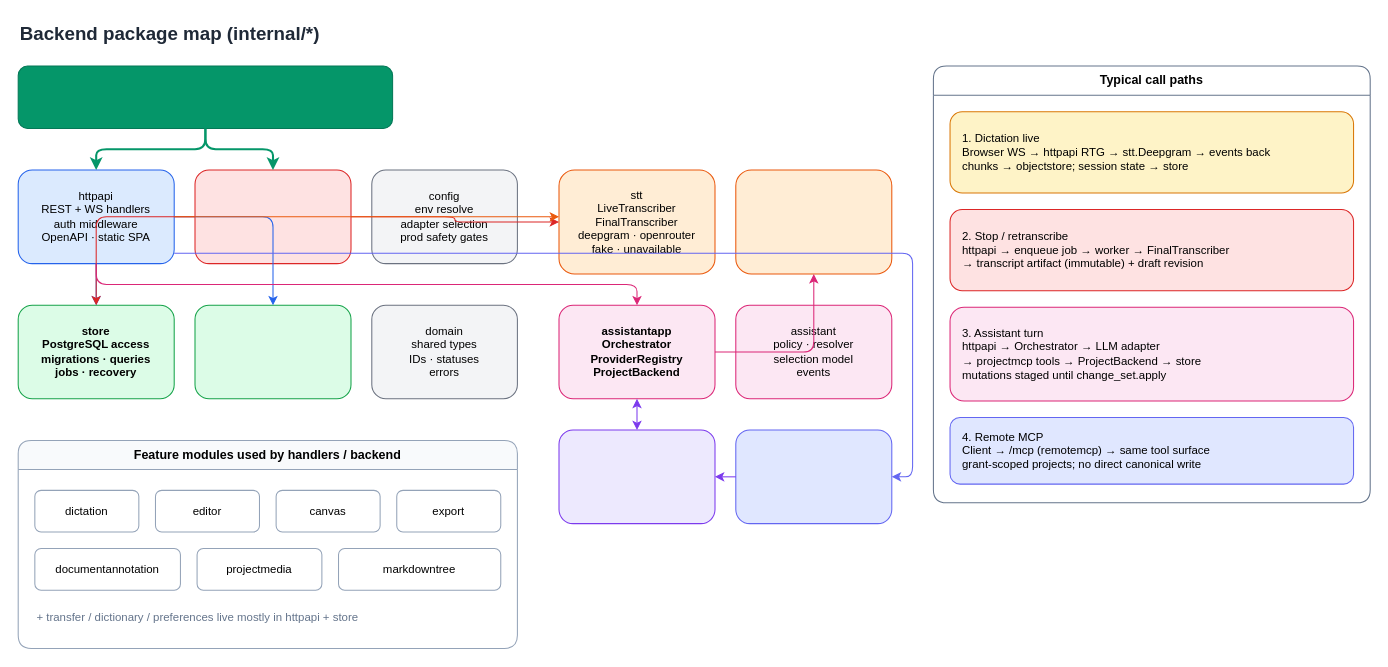
Image size: 1388x667. Some labels were removed from this diagram. Each missing label, with the centre of its shape:
cmd/server wire config · store · objectstore · STT · worker · httpapi: point (205, 96)
llm HTTP client credentials encrypt chat / responses endpoint policy: point (813, 221)
objectstore MinIO/S3 client chunks · media exports: point (272, 351)
projectmcp tool catalog in-process server staged mutations: point (636, 476)
remotemcp Streamable HTTP OAuth/bearer grants project allowlist: point (813, 476)
worker job poller assemble · STT export · purge: point (272, 216)
